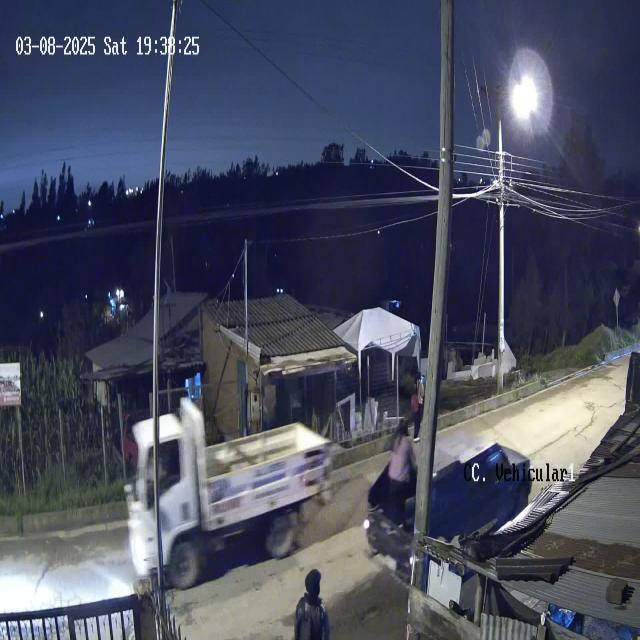TRUCK: (127, 400, 328, 581)
